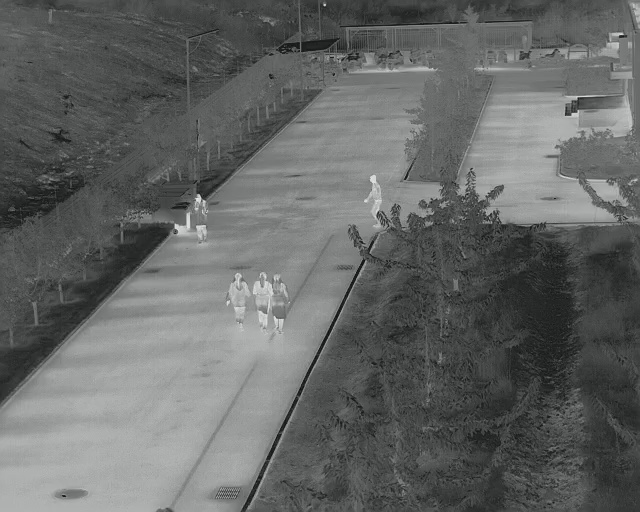person: (225, 270, 251, 331), (252, 269, 271, 336), (270, 273, 290, 334), (362, 172, 381, 230), (191, 194, 211, 247)
